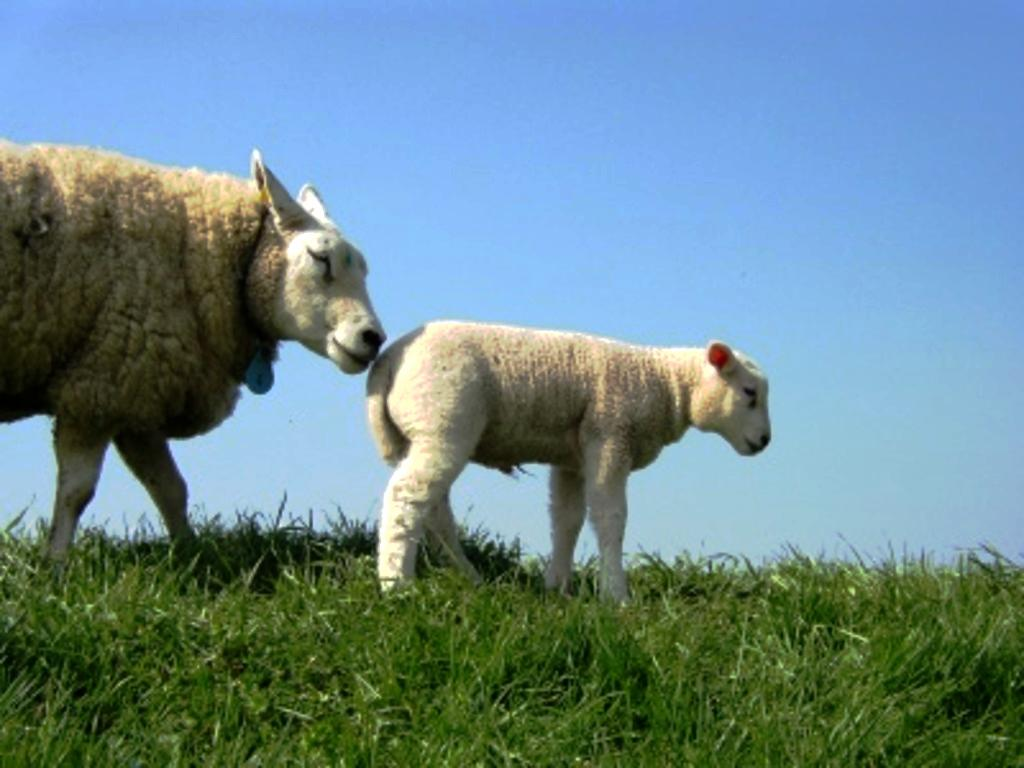Sheep: (0, 133, 387, 566), (361, 309, 774, 602)
